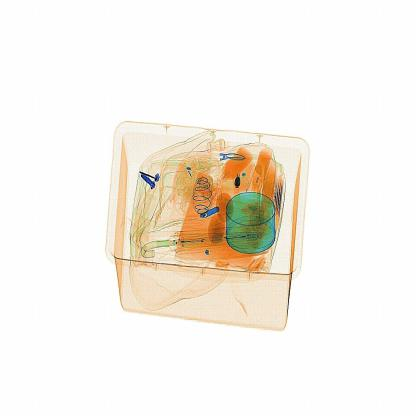wrench: (233, 172, 243, 192)
